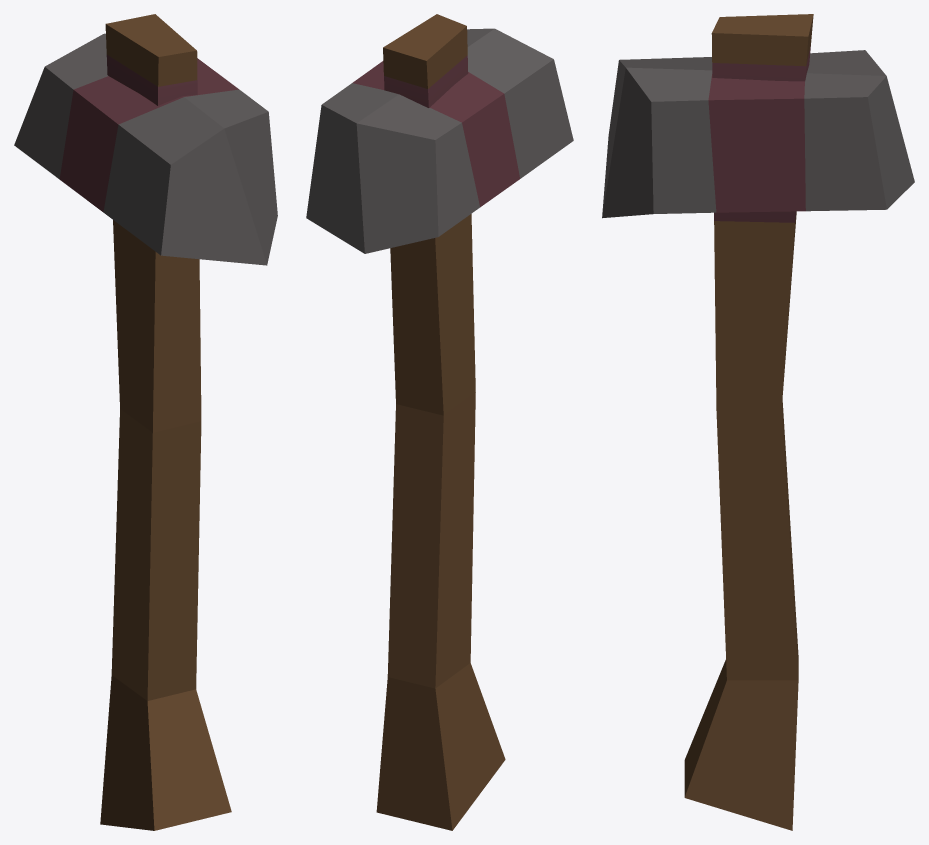
The model's file is SM_Hammer_Tribal.fbx.
3 views of the same model, side by side, from view 1: azimuth 30°, elevation 25°; view 2: azimuth 150°, elevation 25°; view 3: azimuth 270°, elevation 25° (orthographic).
Visible parts, largest first — view 1: SM_Hammer_Tribal; view 2: SM_Hammer_Tribal; view 3: SM_Hammer_Tribal.
Boxes of the visible parts, left/top/right/bottom form: SM_Hammer_Tribal: left=14, top=14, right=277, bottom=830; SM_Hammer_Tribal: left=306, top=14, right=573, bottom=830; SM_Hammer_Tribal: left=602, top=14, right=914, bottom=830.
Bounding box in the file's own units: 0.1209 × 0.6338 × 0.2282.
